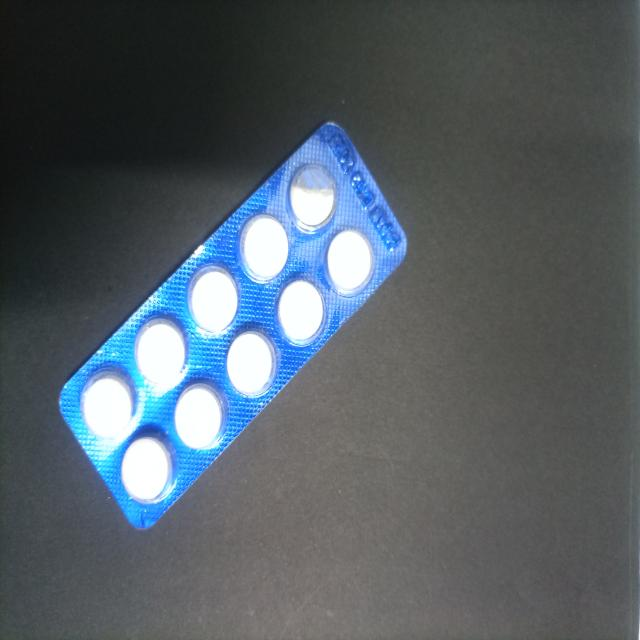defect: (286, 162, 338, 234)
